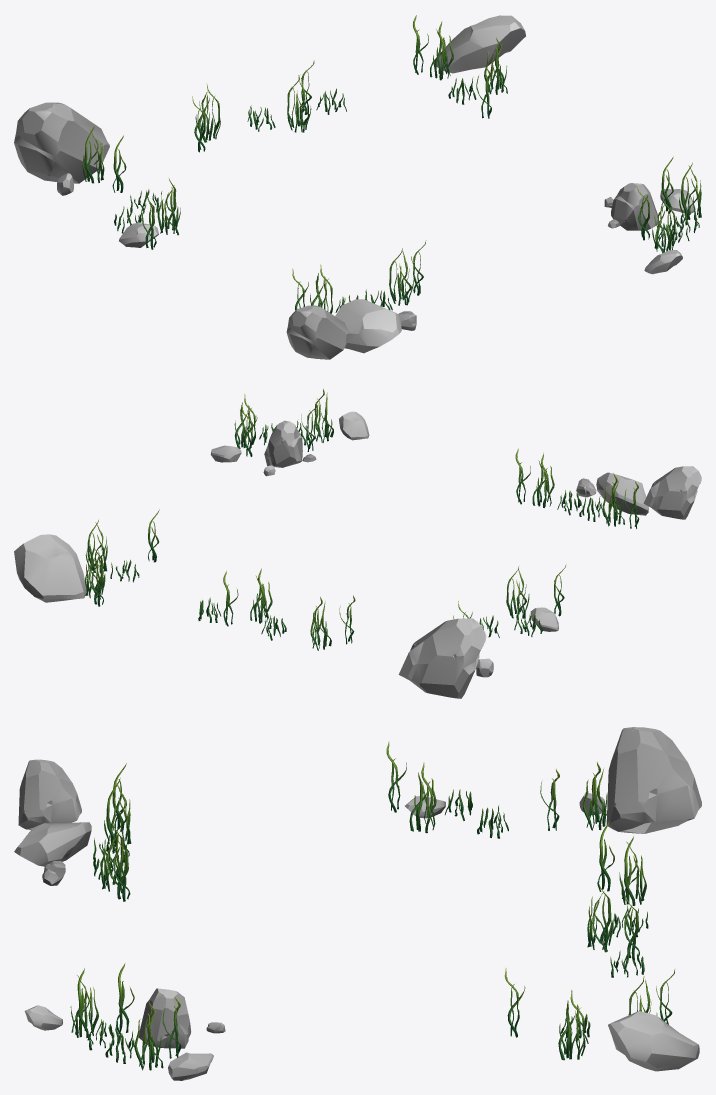
The model's file is under_Water.fbx.
3 renders of one model, top to bottom at view 1: azimuth 30°, elevation 25°; view 2: azimuth 150°, elevation 25°; view 3: azimuth 270°, elevation 25°, orthographic. The views are drawn at different scales.
Parts seen in each view (by area): view 1: SK_Rock_001__4_.003, SK_Rock_007, SK_Rock_001__4_.002, SK_Rock_007.003, SK_Rock_001__4_.001, SK_Rock_007.004, WD_PD_Plant_K_01_base.009, WD_PD_Plant_K_01_base.001, WD_PD_Plant_K_01_base.008, WD_PD_Plant_K_01_base.006, WD_PD_Plant_K_01_base.007, WD_PD_Plant_K_01_base.002 (+4 smaller); view 2: SK_Rock_001__4_.003, SK_Rock_007, SK_Rock_001__4_.002, SK_Rock_001__4_.001, SK_Rock_007.003, SK_Rock_007.002, WD_PD_Plant_K_01_base.009, SK_Rock_007.004, WD_PD_Plant_K_01_base.006, WD_PD_Plant_K_01_base.001, WD_PD_Plant_K_01_base.007, WD_PD_Plant_K_01_base.004 (+2 smaller); view 3: SK_Rock_001__4_.003, SK_Rock_007, SK_Rock_001__4_.002, SK_Rock_007.003, SK_Rock_001__4_.001, SK_Rock_007.001, WD_PD_Plant_K_01_base.007, WD_PD_Plant_K_01_base.006, WD_PD_Plant_K_01_base.002, WD_PD_Plant_K_01_base.004, WD_PD_Plant_K_01_base.009, WD_PD_Plant_K_01_base.008 (+4 smaller).
Part boxes in pixels (x1,y1,x2,y2): SK_Rock_001__4_.003: [14, 102, 109, 183]; SK_Rock_007: [436, 15, 525, 73]; SK_Rock_001__4_.002: [286, 305, 350, 359]; SK_Rock_007.003: [335, 299, 401, 353]; SK_Rock_001__4_.001: [611, 183, 658, 230]; SK_Rock_007.004: [119, 223, 158, 247]; WD_PD_Plant_K_01_base.009: [157, 178, 180, 235]; WD_PD_Plant_K_01_base.001: [389, 248, 413, 305]; WD_PD_Plant_K_01_base.008: [82, 125, 104, 183]; WD_PD_Plant_K_01_base.006: [287, 74, 311, 132]; WD_PD_Plant_K_01_base.007: [195, 83, 220, 142]; WD_PD_Plant_K_01_base.002: [652, 196, 677, 253]; SK_Rock_001__4_.003: [398, 618, 486, 698]; SK_Rock_007: [14, 534, 86, 602]; SK_Rock_001__4_.002: [643, 466, 701, 519]; SK_Rock_001__4_.001: [264, 420, 302, 467]; SK_Rock_007.003: [596, 472, 648, 515]; SK_Rock_007.002: [339, 411, 369, 440]; WD_PD_Plant_K_01_base.009: [506, 566, 529, 619]; SK_Rock_007.004: [530, 607, 558, 631]; WD_PD_Plant_K_01_base.006: [250, 568, 272, 623]; WD_PD_Plant_K_01_base.001: [532, 452, 554, 507]; WD_PD_Plant_K_01_base.007: [310, 596, 331, 650]; WD_PD_Plant_K_01_base.004: [85, 520, 107, 573]; SK_Rock_001__4_.003: [606, 727, 701, 833]; SK_Rock_007: [608, 1011, 699, 1071]; SK_Rock_001__4_.002: [18, 759, 81, 829]; SK_Rock_007.003: [14, 822, 91, 866]; SK_Rock_001__4_.001: [138, 988, 191, 1048]; SK_Rock_007.001: [168, 1052, 213, 1080]; WD_PD_Plant_K_01_base.007: [619, 836, 646, 905]; WD_PD_Plant_K_01_base.006: [587, 882, 613, 952]; WD_PD_Plant_K_01_base.002: [70, 968, 98, 1037]; WD_PD_Plant_K_01_base.004: [558, 990, 585, 1060]; WD_PD_Plant_K_01_base.009: [409, 762, 436, 833]; WD_PD_Plant_K_01_base.008: [583, 761, 607, 830].
Size of the model in its own units: 2304 by 364 by 2294.
